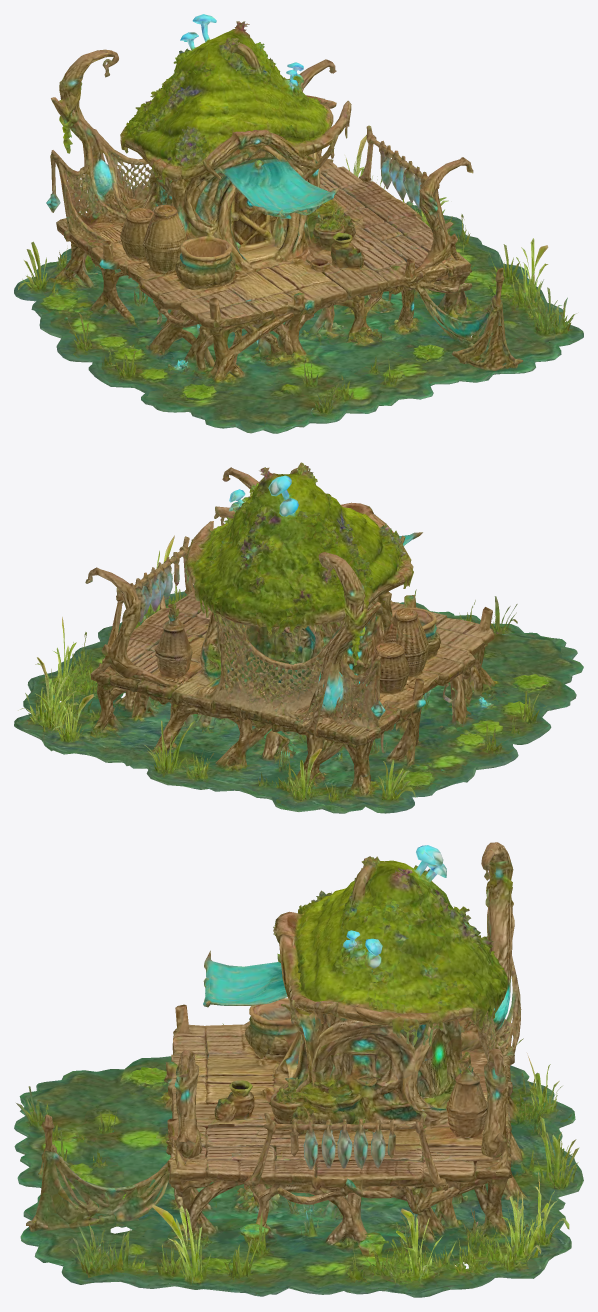
File: fishing-hut-pier.glb
3 renders of one model, top to bottom at view 1: azimuth 30°, elevation 25°; view 2: azimuth 150°, elevation 25°; view 3: azimuth 270°, elevation 25°, orthographic. The views are drawn at different scales.
Size of the model in its own units: 1.9 by 1.1 by 1.84.
1 material, 1 textured.
